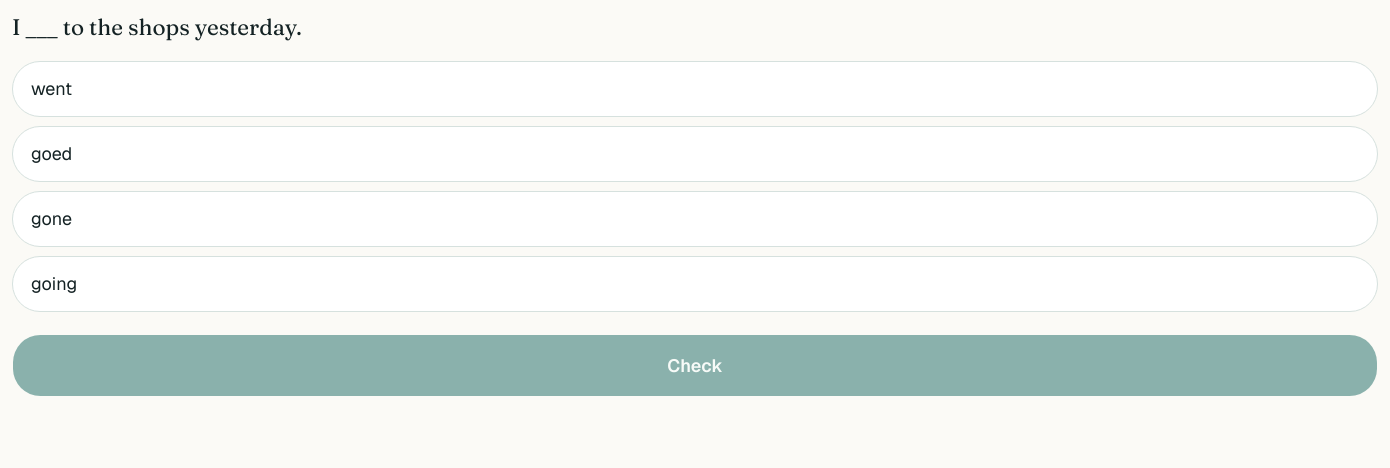
it: the feedback state machine › a wrong answer shows the canonical and no failure state
This screenshot has width=1390, height=468.
Click the button "goed" at (52, 154), box [12,126,1378,182]
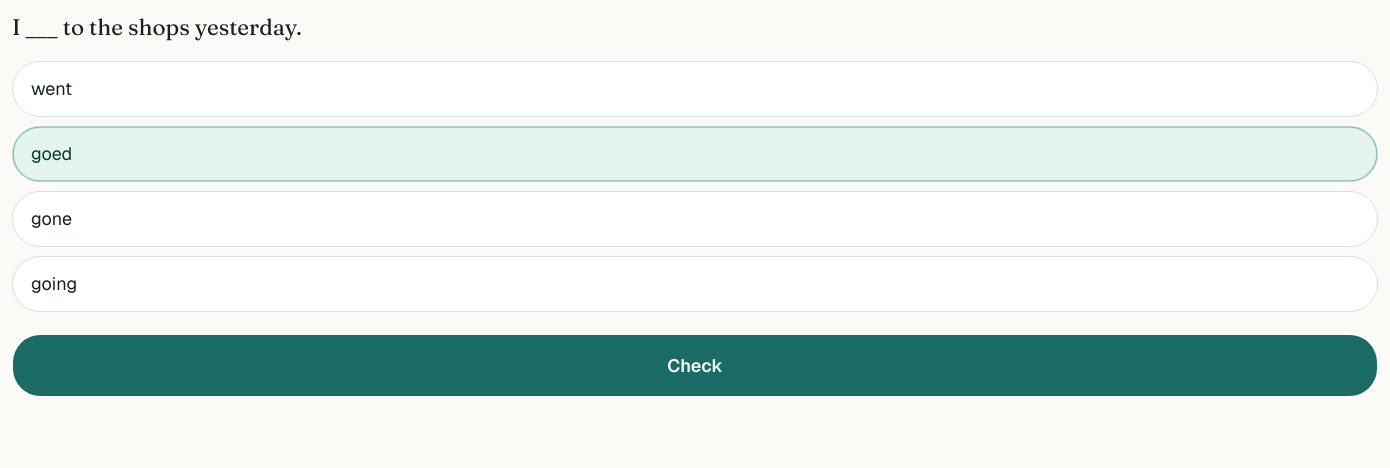
Click the button "Check" at (695, 366), box [12,334,1378,397]
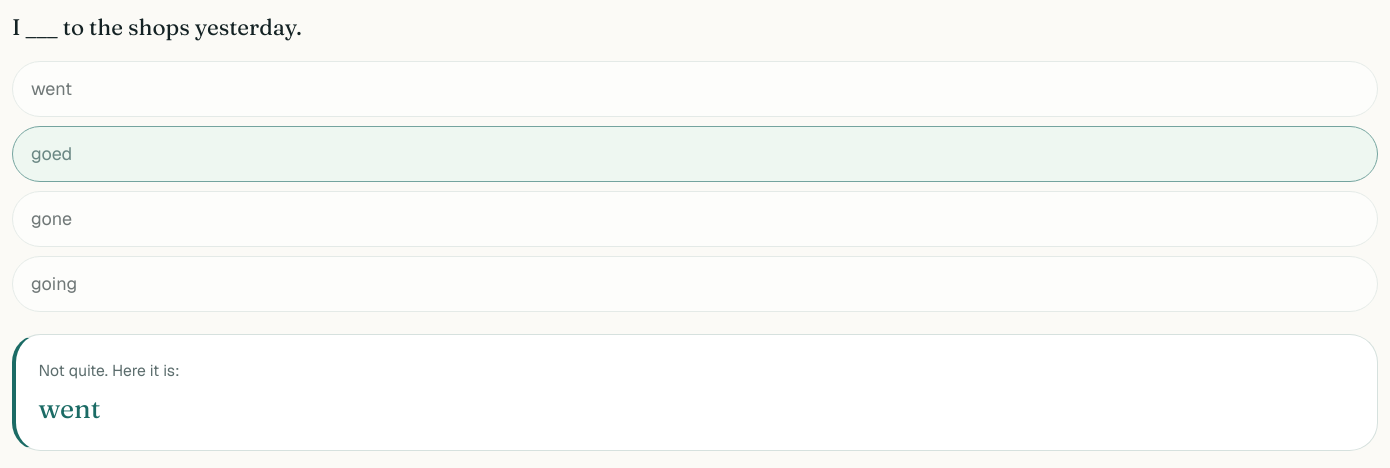
Result: the element with test id "feedback" shows "went" at [38,392,101,425]
